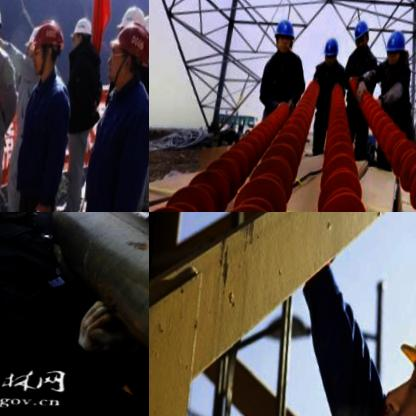helmet: (103, 23, 149, 97), (28, 18, 66, 85), (68, 14, 96, 63), (270, 16, 300, 61), (380, 33, 410, 78), (350, 22, 372, 56), (320, 39, 341, 73), (139, 14, 149, 60)
